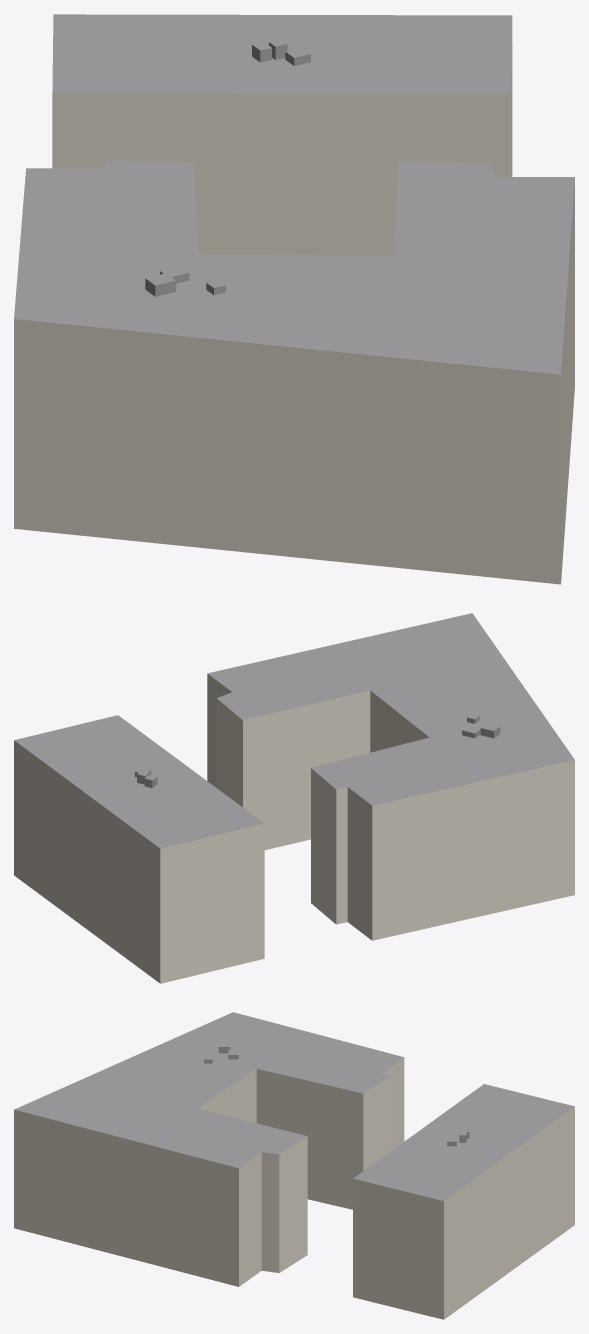
File: building_-6_-3.glb
3 views of the same model, one above another, from view 1: azimuth 30°, elevation 25°; view 2: azimuth 150°, elevation 25°; view 3: azimuth 270°, elevation 25° (orthographic). The views are drawn at different scales.
Parts seen in each view (by area): view 1: concrete_warm, roof; view 2: concrete_warm, roof; view 3: concrete_warm, roof.
Part boxes in pixels (<box>): concrete_warm: <box>14,43,574,584</box>; roof: <box>14,14,574,374</box>; concrete_warm: <box>14,673,574,983</box>; roof: <box>14,613,574,848</box>; concrete_warm: <box>14,1057,574,1319</box>; roof: <box>14,1012,574,1200</box>.
Size of the model in its own units: 95.61 by 29.79 by 120.
